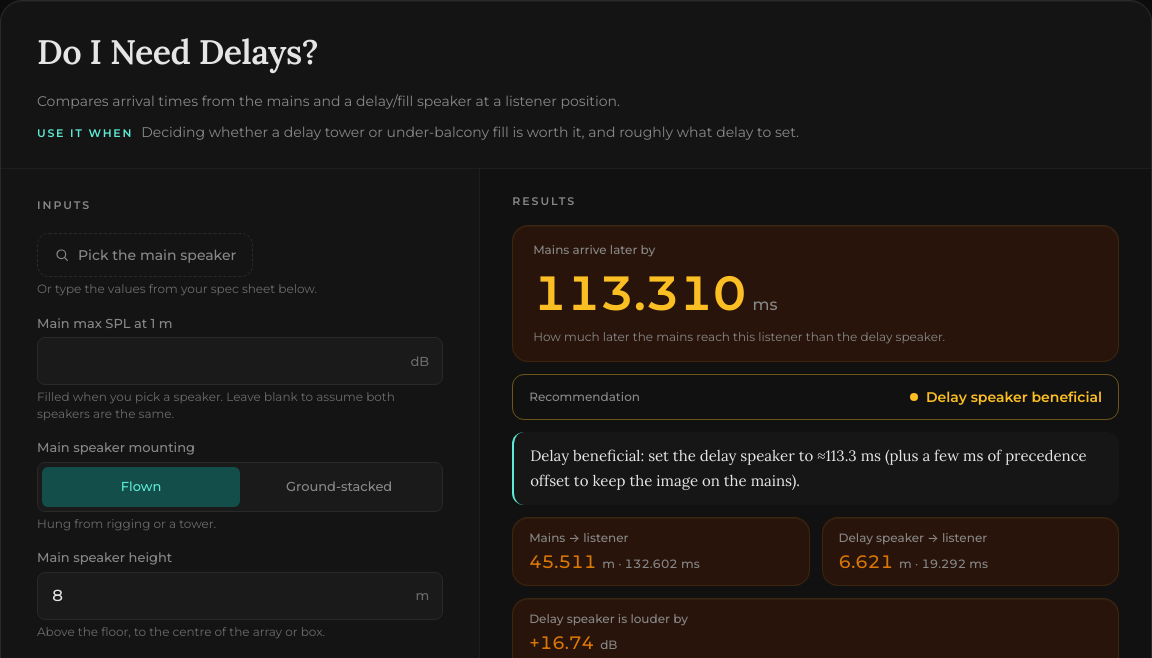
Test: ground-stacked vs flown mains › Need delays? uses the middle of a ground stack and warns about crowd absorption
The width and height of the screenshot is (1152, 658).
Expected: the field labelled "Main speaker height" is shown, [37, 572, 443, 620]
Click the radio button labelled "Ground-stacked" at [339, 487], box [240, 467, 438, 507]
(page scrolled)
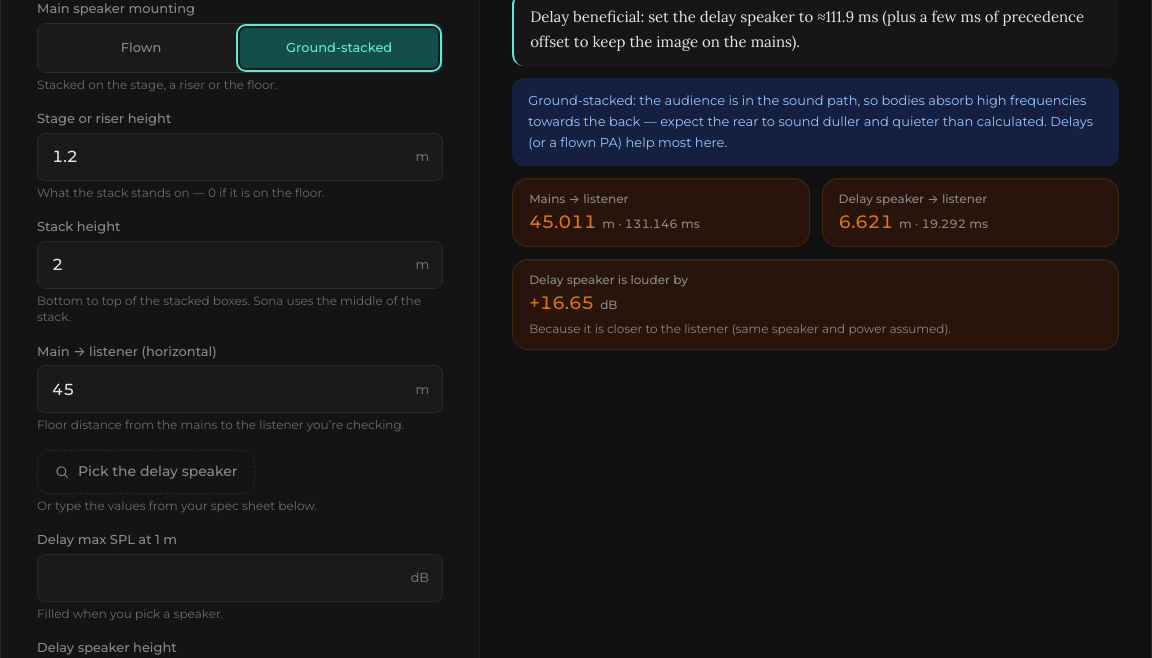
Expected: the label labelled "Main speaker height" is gone
Expected: the field labelled "Stage or riser height" holds "1.2", [37, 133, 443, 181]
Expected: the field labelled "Stack height" holds "2", [37, 241, 443, 289]
